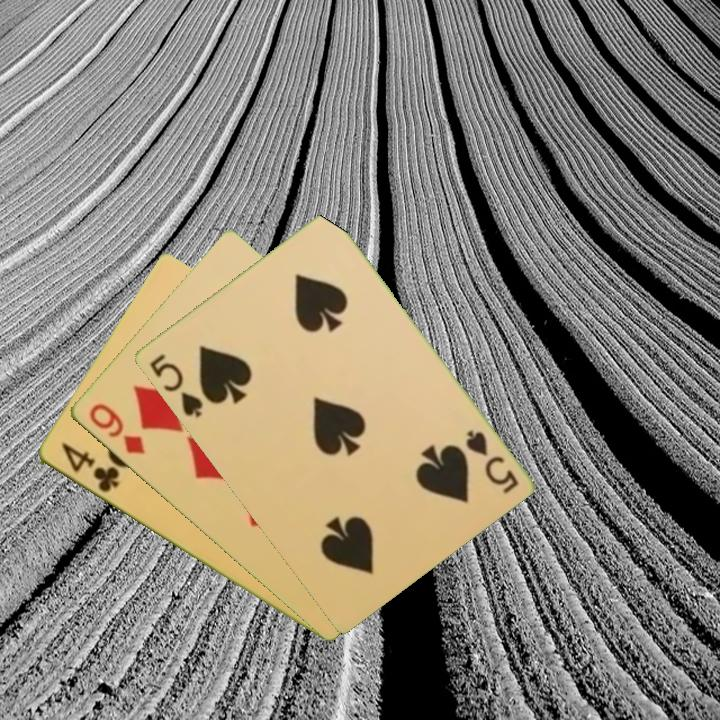4c: (56, 439, 122, 496)
5s: (145, 350, 206, 421), (461, 426, 521, 497)
9d: (84, 399, 148, 458)
